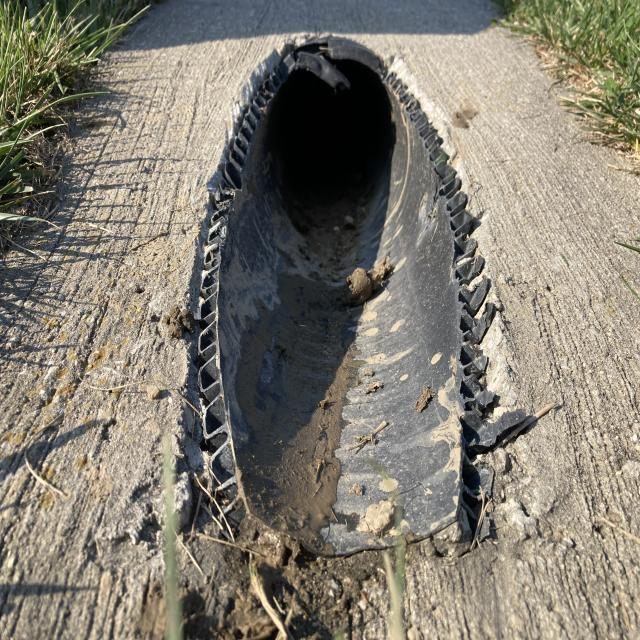dirt: (260, 320, 335, 529), (289, 258, 394, 311)
